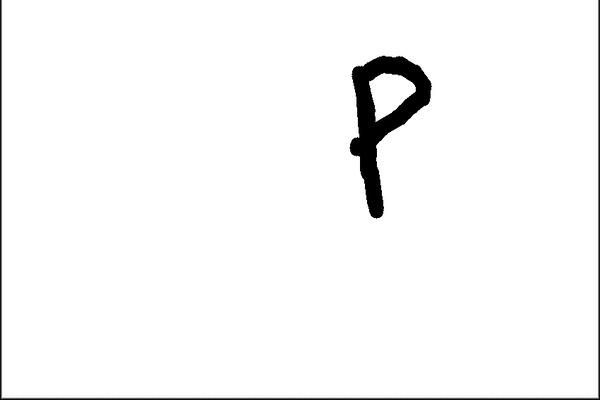P: (329, 40, 453, 229)
